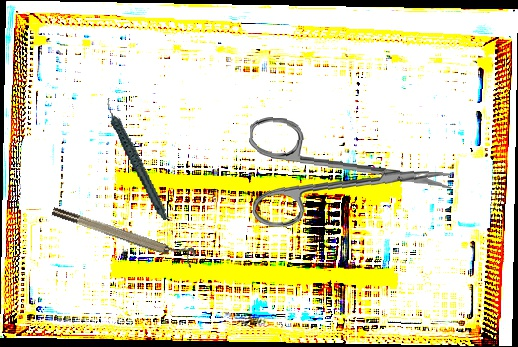Fixation Ring: (50, 198, 198, 269)
Handpiece: (104, 91, 169, 227)
Iris Scissors: (243, 115, 456, 240)
